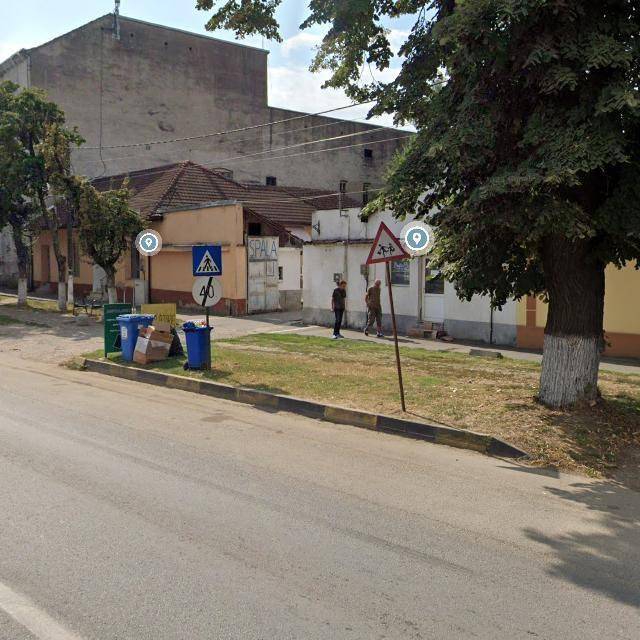info_crosswalk: (193, 245, 223, 277)
